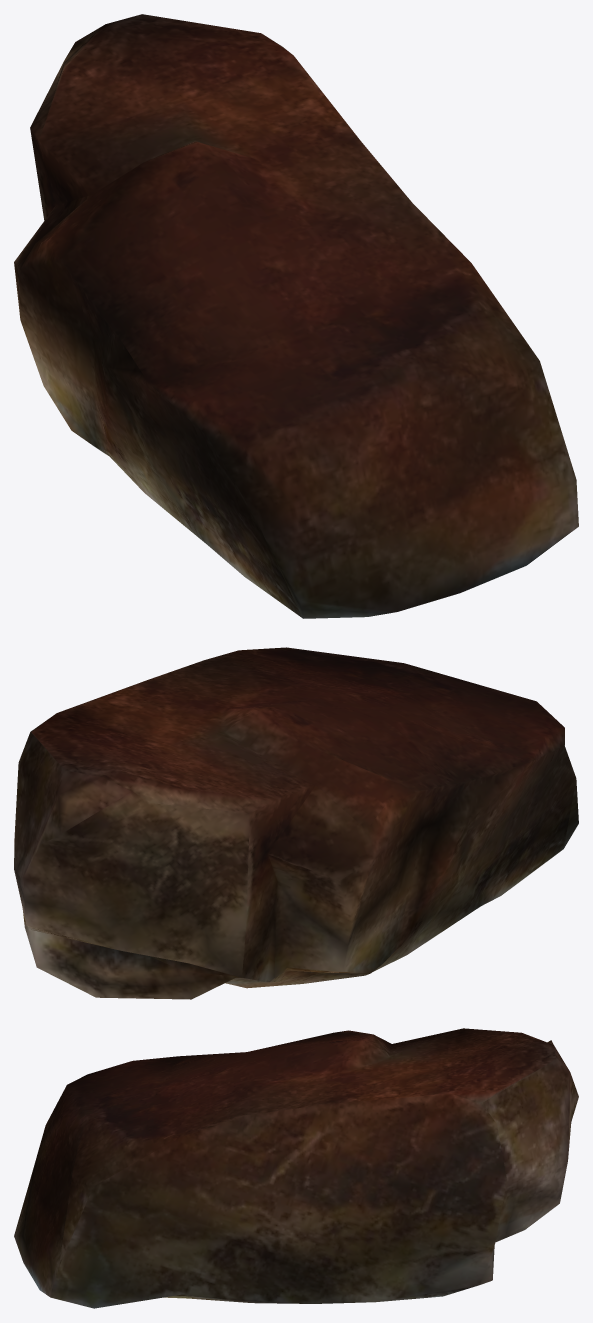
The model's file is boulder.glb.
The picture shows the model from 3 angles, top to bottom: view 1: azimuth 30°, elevation 25°; view 2: azimuth 150°, elevation 25°; view 3: azimuth 270°, elevation 25°; orthographic projection. The views are drawn at different scales.
Visible parts, largest first — view 1: rock_07; view 2: rock_07; view 3: rock_07.
Boxes of the visible parts, box(x1,y1,x2,y2) form: rock_07: box(14, 14, 578, 618); rock_07: box(14, 647, 578, 999); rock_07: box(14, 1028, 578, 1308).
Size of the model in its own units: 0.1661 by 0.1409 by 0.3193.
1 material, 1 textured.
